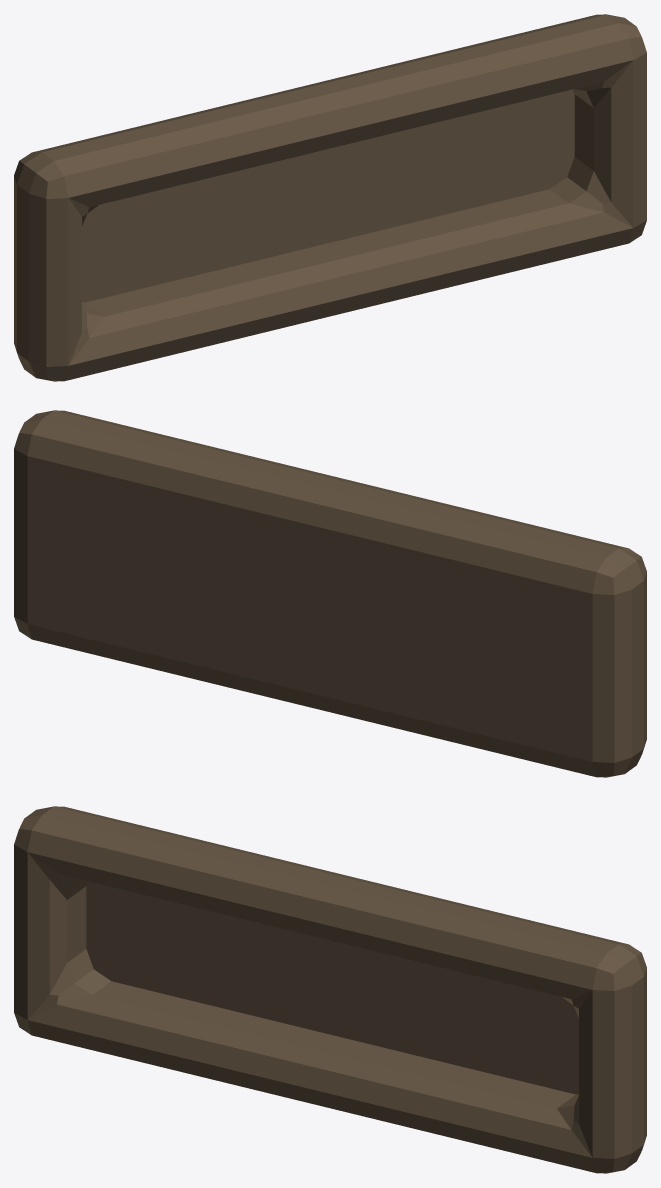
File: Photoframe4.fbx
The picture shows the model from 3 angles, top to bottom: view 1: azimuth 30°, elevation 25°; view 2: azimuth 150°, elevation 25°; view 3: azimuth 330°, elevation 25°; orthographic projection.
Parts seen in each view (by area): view 1: Frame3; view 2: Frame3; view 3: Frame3.
Boxes of the visible parts, box(x1,y1,x2,y2) form: Frame3: box(14, 14, 646, 381); Frame3: box(14, 410, 646, 777); Frame3: box(14, 806, 646, 1173).
Size of the model in its own units: 60.81 by 20.83 by 7.01.
